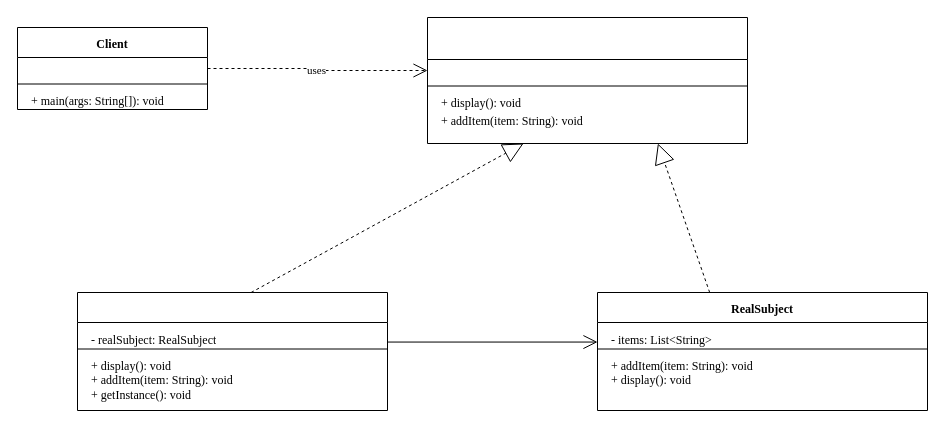
Image size: 945x431. Some labels were removed from this diagram. The box of each missing label's shape, as (x1, y1, x2, y2) in pixels:
<<interface>> SuperMarket: (426, 16, 748, 144)
Proxy: (76, 292, 388, 410)
